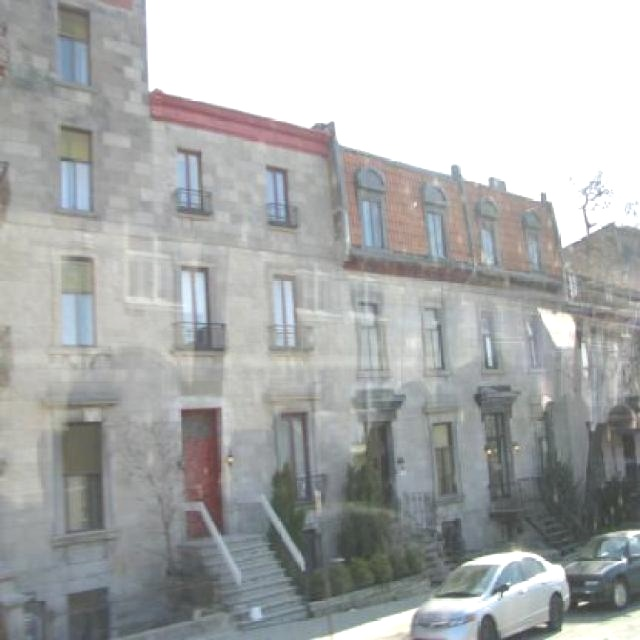stair: (178, 533, 314, 629), (522, 502, 588, 562), (395, 528, 461, 580)
